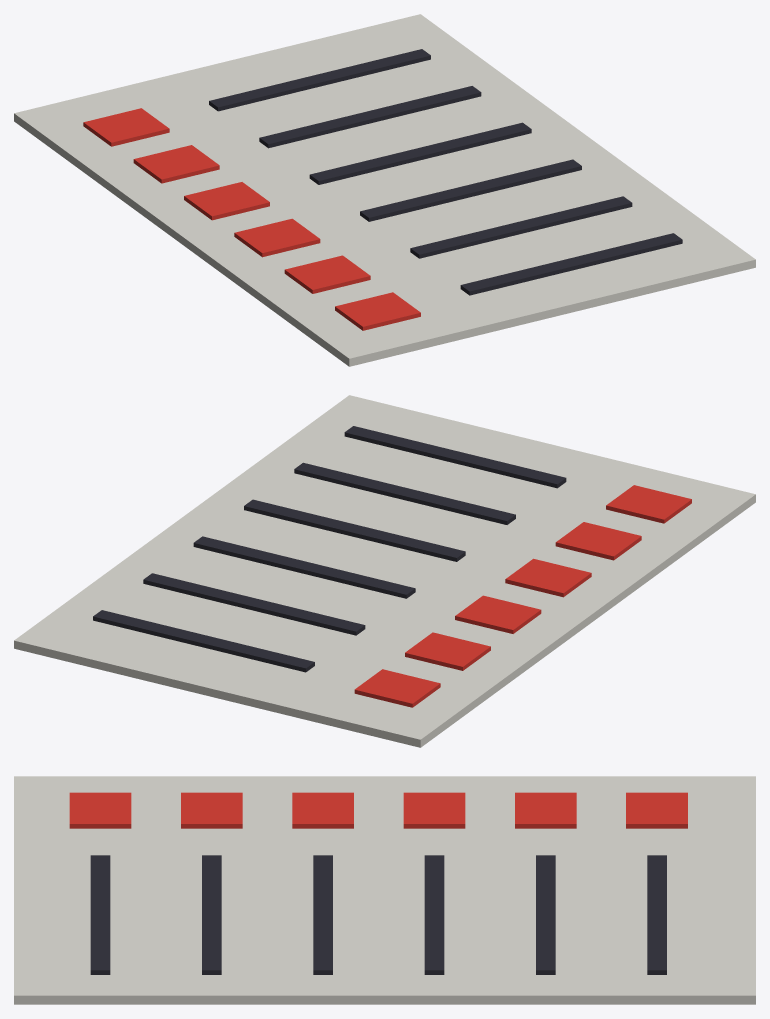
Rendered from house_list.glb.
3 views of the same model, one above another, from view 1: azimuth 30°, elevation 25°; view 2: azimuth 150°, elevation 25°; view 3: azimuth 270°, elevation 25° (orthographic). The views are drawn at different scales.
Parts seen in each view (by area): view 1: sheet_paper_white, rows_ink (×6), houses_house_red (×6); view 2: sheet_paper_white, rows_ink (×6), houses_house_red (×6); view 3: sheet_paper_white, rows_ink (×6), houses_house_red (×6).
Part boxes in pixels (box(x1,y1,x2,y2)): sheet_paper_white: box(14, 14, 755, 366); rows_ink (×6): box(209, 49, 682, 295); houses_house_red (×6): box(83, 108, 420, 330); sheet_paper_white: box(14, 395, 755, 747); rows_ink (×6): box(93, 426, 566, 672); houses_house_red (×6): box(354, 485, 691, 707); sheet_paper_white: box(14, 776, 755, 1004); rows_ink (×6): box(90, 855, 666, 974); houses_house_red (×6): box(69, 792, 687, 828).
Size of the model in its own units: 0.21 by 0.006 by 0.3.
